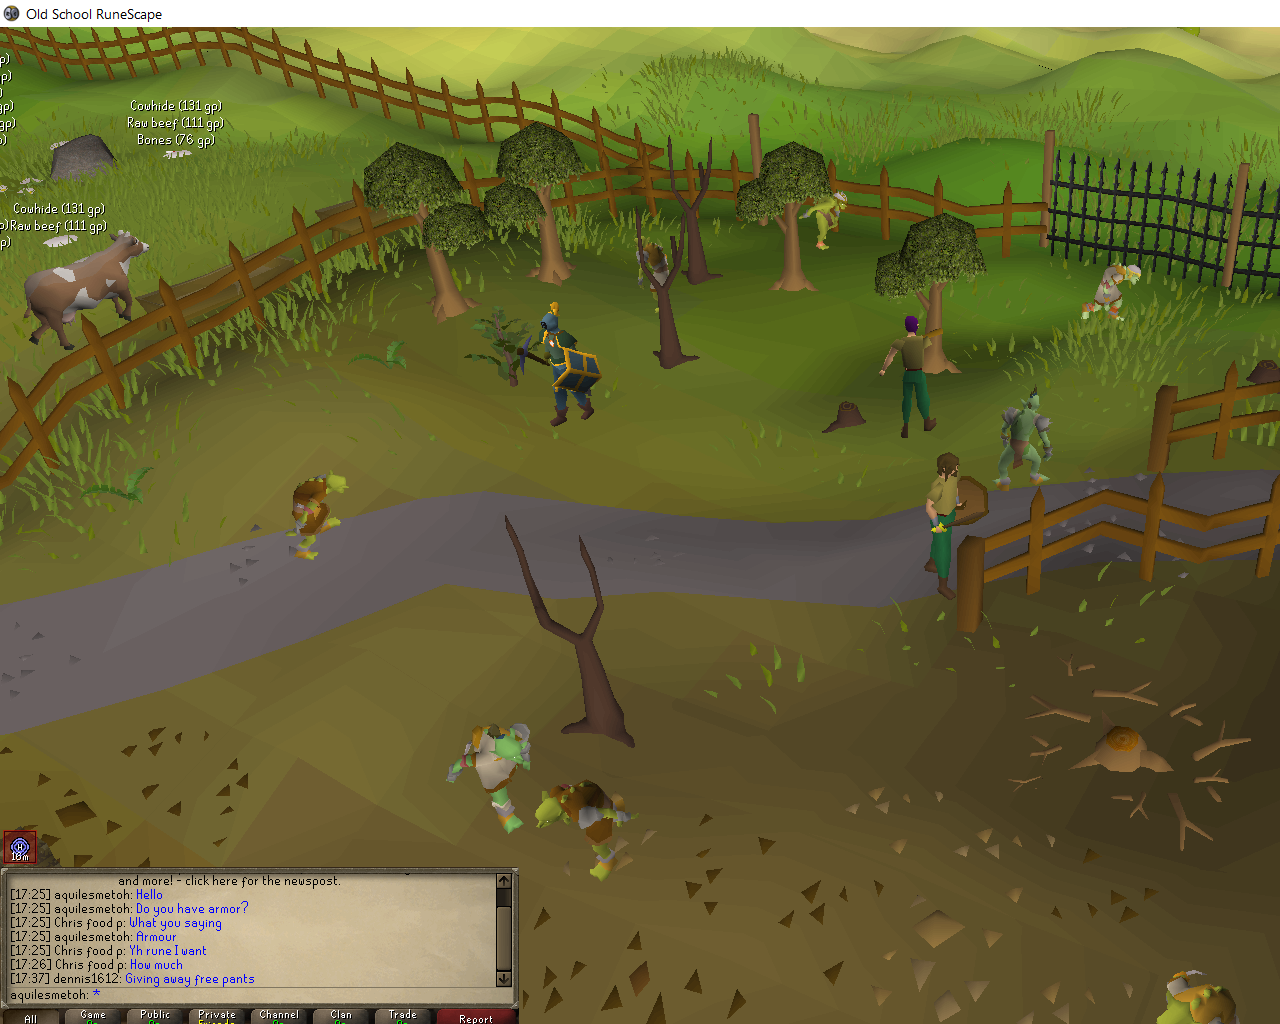Goblin: (536, 774, 641, 883), (443, 722, 538, 836), (990, 385, 1058, 494), (286, 472, 354, 561), (1143, 968, 1249, 1024), (1077, 259, 1146, 327), (800, 190, 852, 254)
